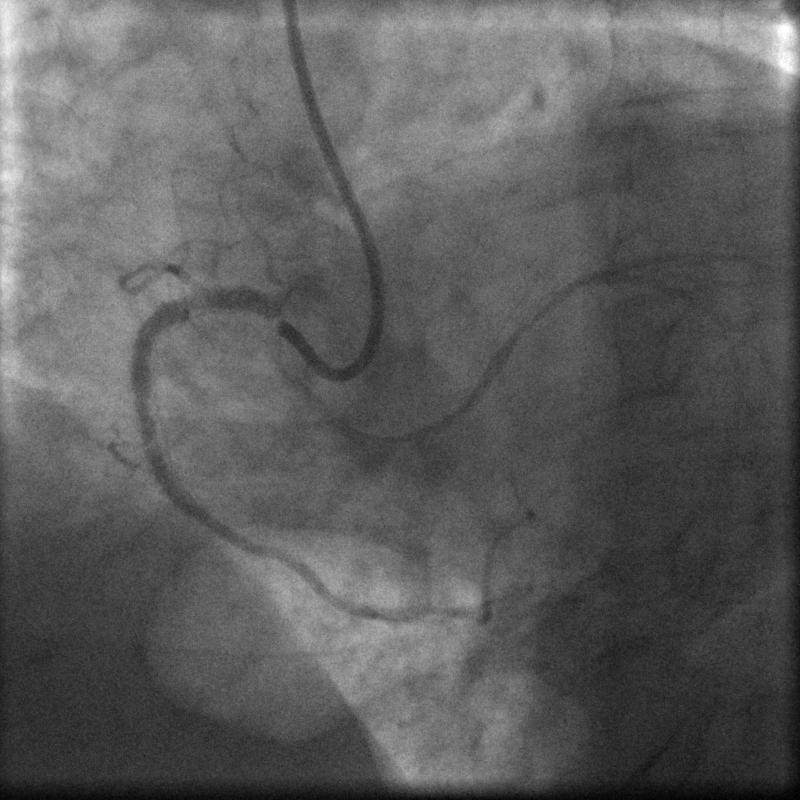Stenosis: (130, 388, 158, 442)
